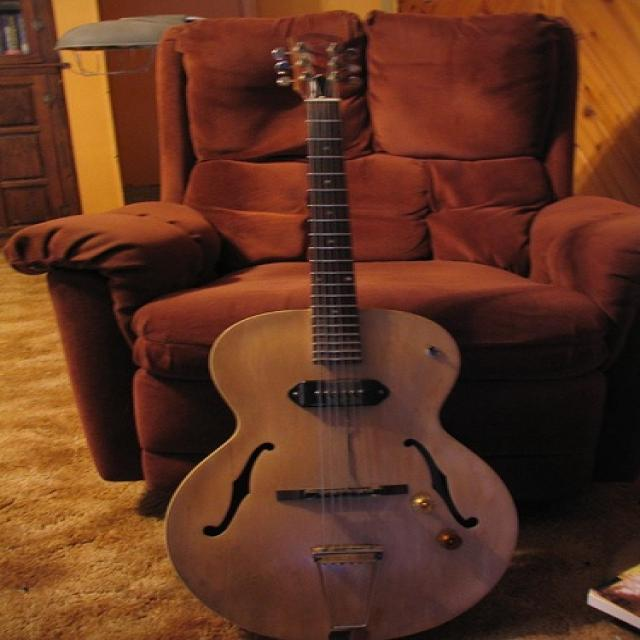chair: (4, 6, 638, 503)
